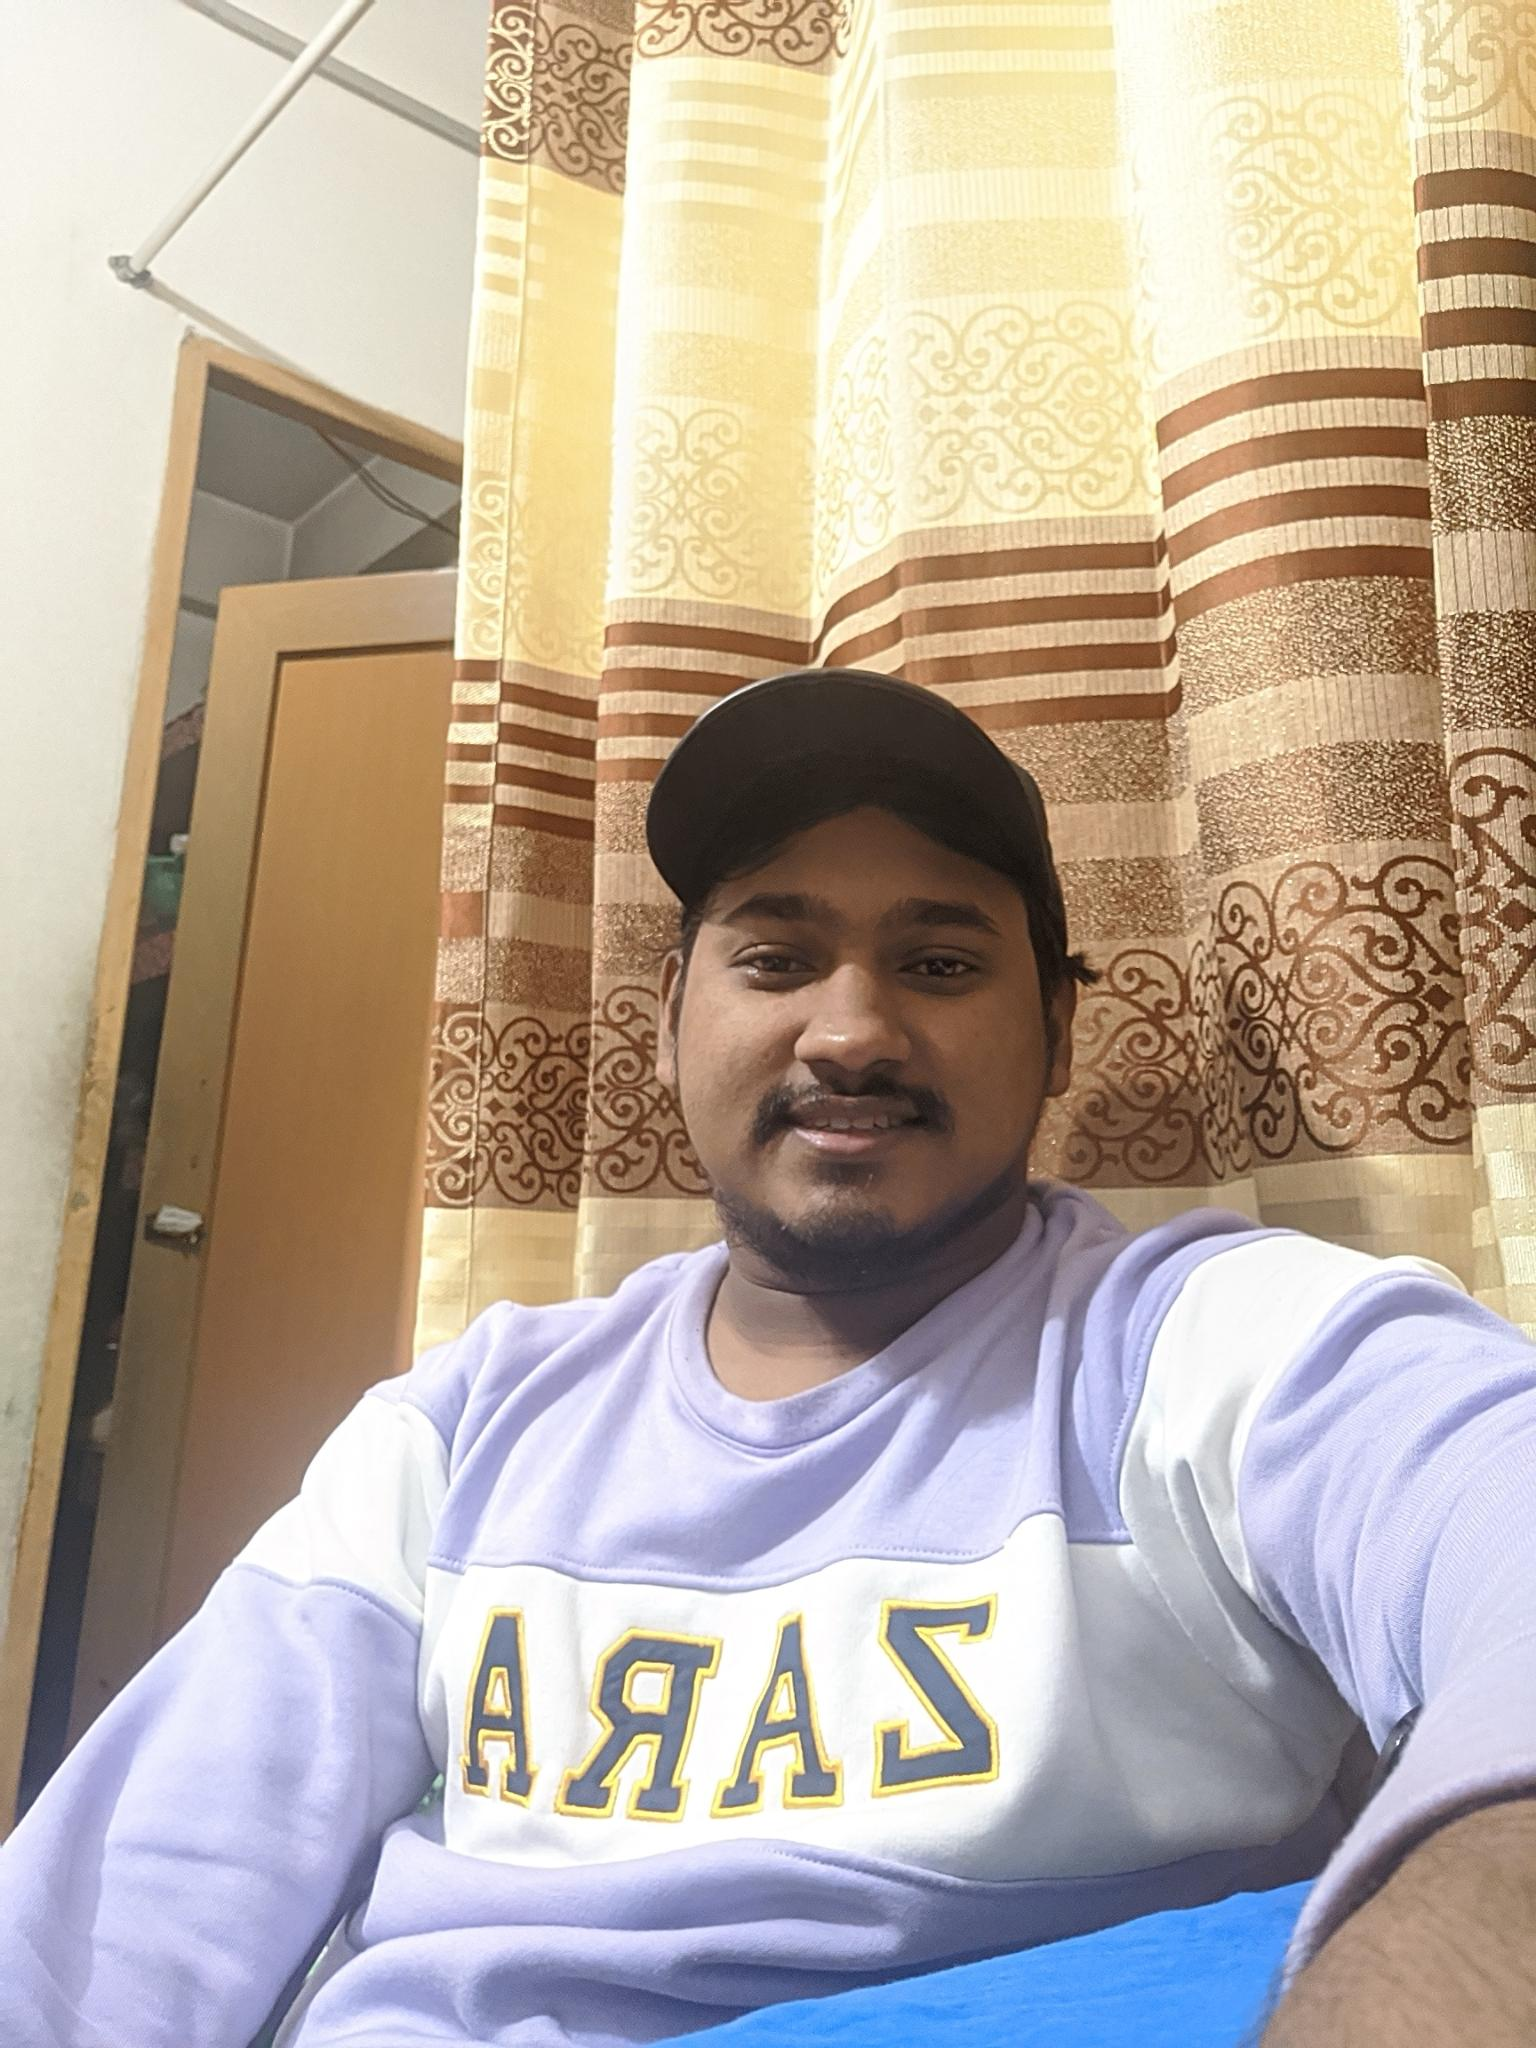Happy: (671, 832, 1076, 1258)
